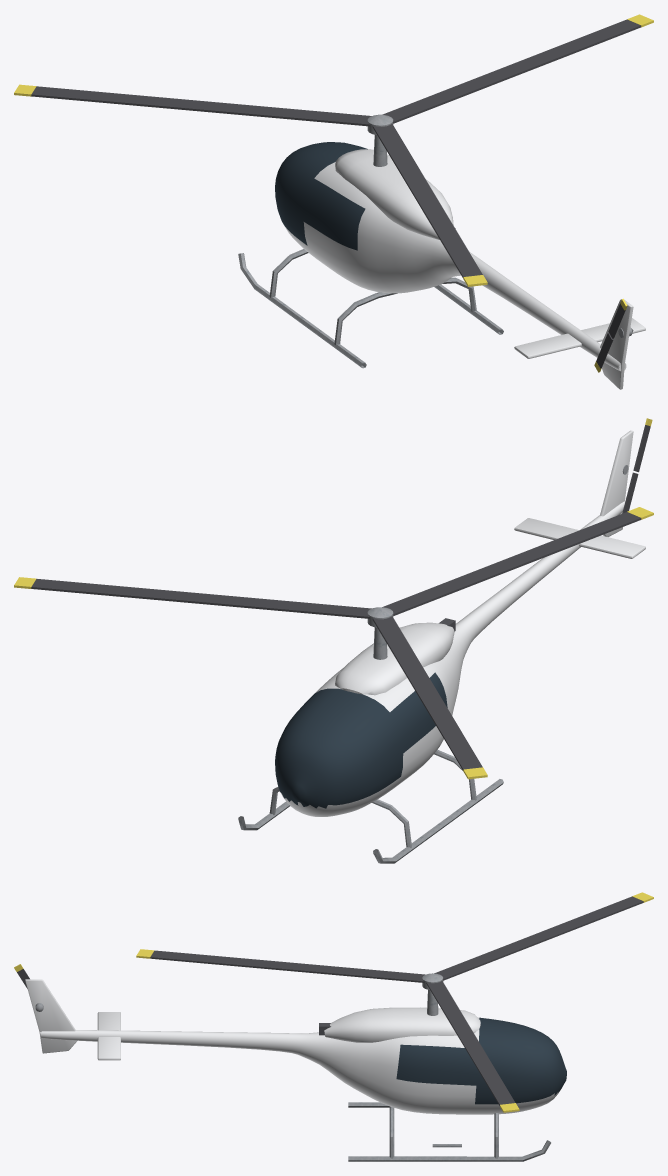
The model's file is heli_light_white.gltf.
The picture shows the model from 3 angles, top to bottom: view 1: azimuth 30°, elevation 25°; view 2: azimuth 150°, elevation 25°; view 3: azimuth 270°, elevation 25°; orthographic projection. The views are drawn at different scales.
Visible parts, largest first — view 1: heli_light_white; view 2: heli_light_white; view 3: heli_light_white.
Boxes of the visible parts, left/top/right/bottom form: heli_light_white: left=14, top=14, right=653, bottom=389; heli_light_white: left=14, top=418, right=653, bottom=863; heli_light_white: left=14, top=892, right=653, bottom=1161.
Size of the model in its own units: 8.89 by 3.12 by 10.99.
Materials: 6 (2 with a texture image).
